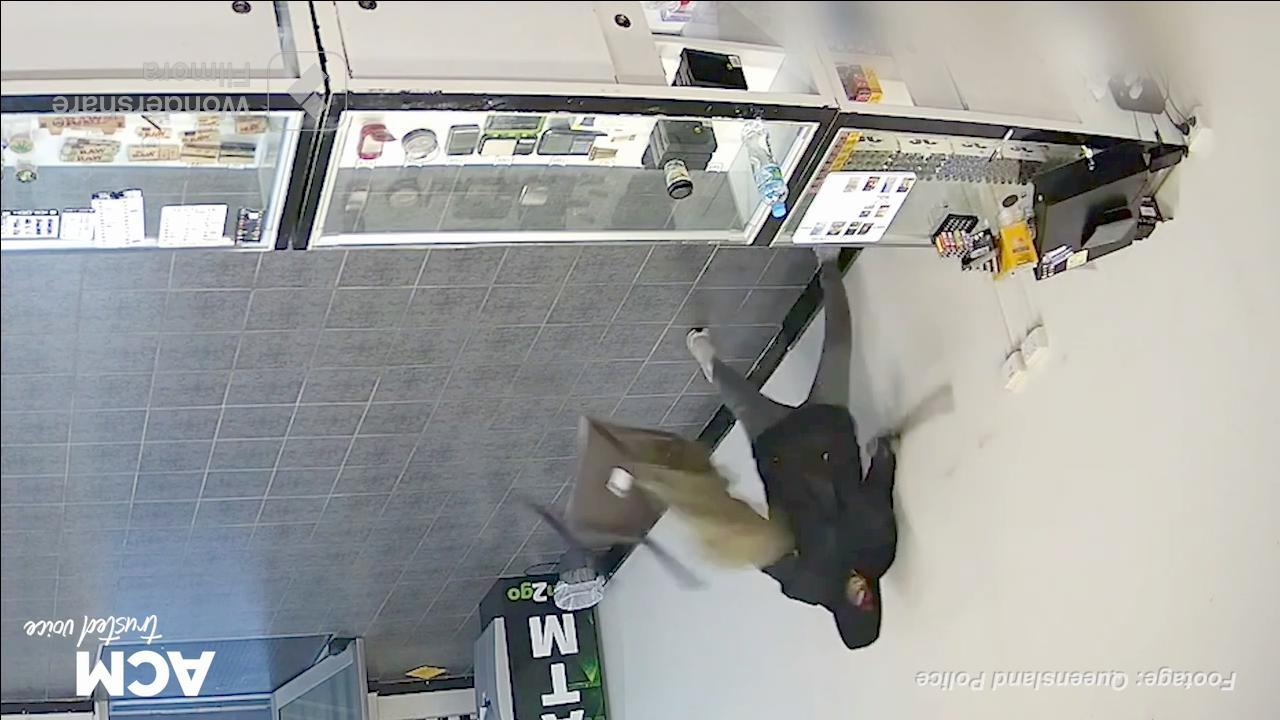melee: (874, 382, 960, 446)
